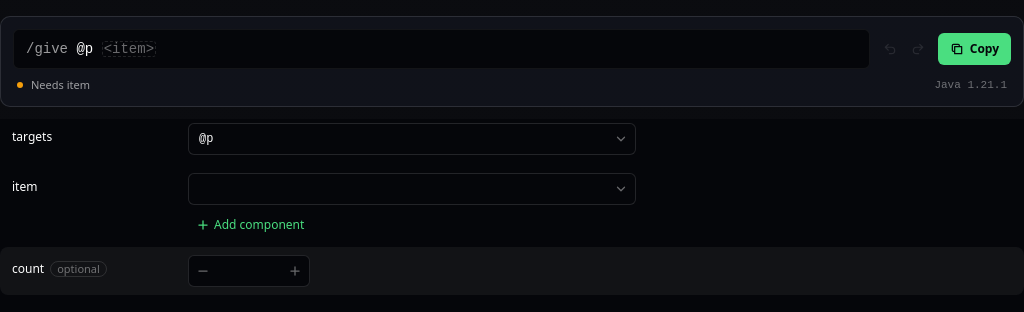
it: an unfilled optional tail is simply absent from the output
Type "stone" into the dropdown named "Item". click: (412, 188)
box: [188,172,636,204]
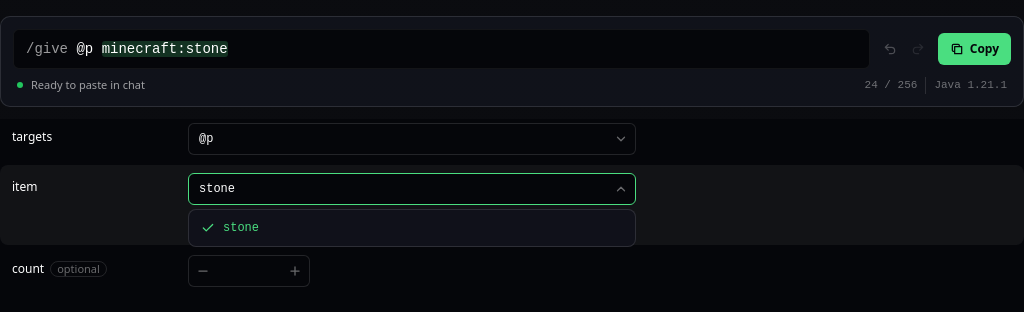
Expected: the element showing "/give @p minecraft:stone" is shown, [26,39,228,59]
